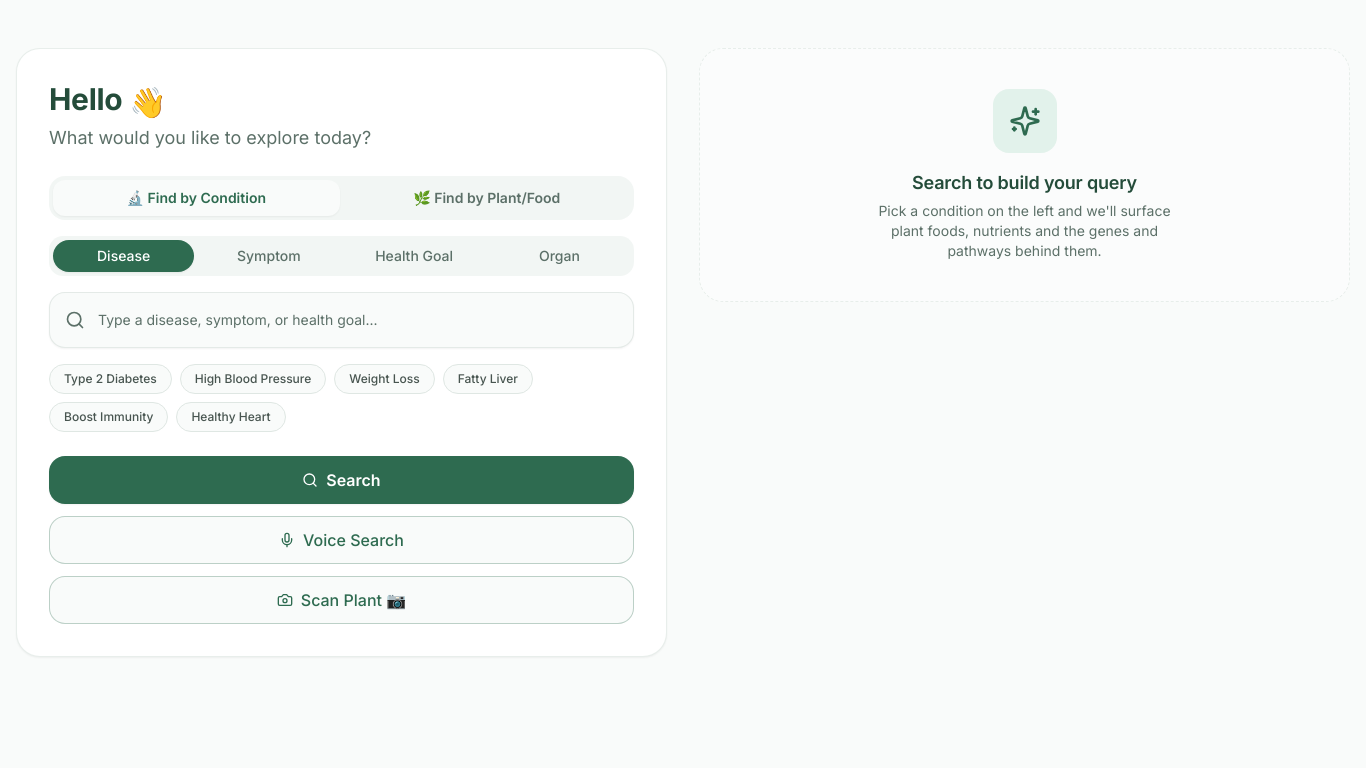
Test: search mode toggle › swaps placeholder, chips and tabs in plant mode
Click the button "🌿 Find by Plant/Food" at (487, 198), box [344,180,630,216]
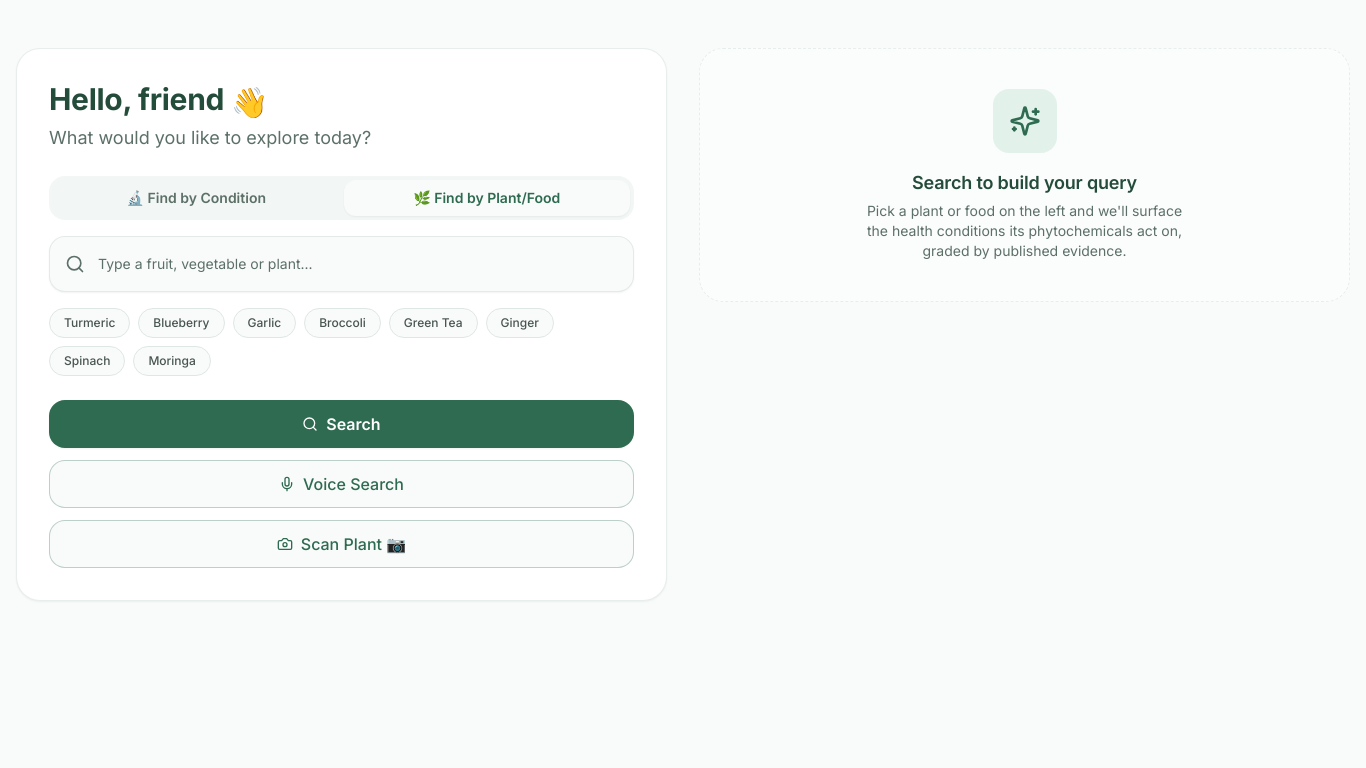
Result: the field with placeholder "Type a fruit, vegetable or plant..." is shown at [49,236,634,292]
Result: the button "Moringa" is shown at [133,346,211,376]
Result: the button "Type 2 Diabetes" is gone
